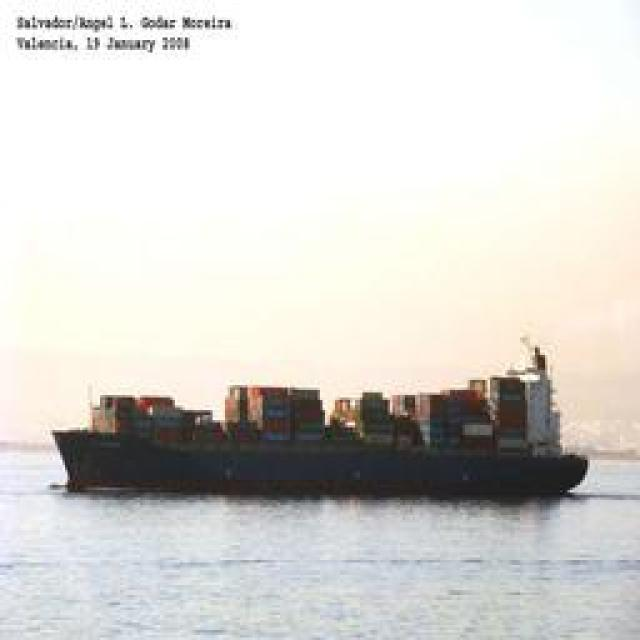CIV_Ship: (54, 352, 594, 500)
